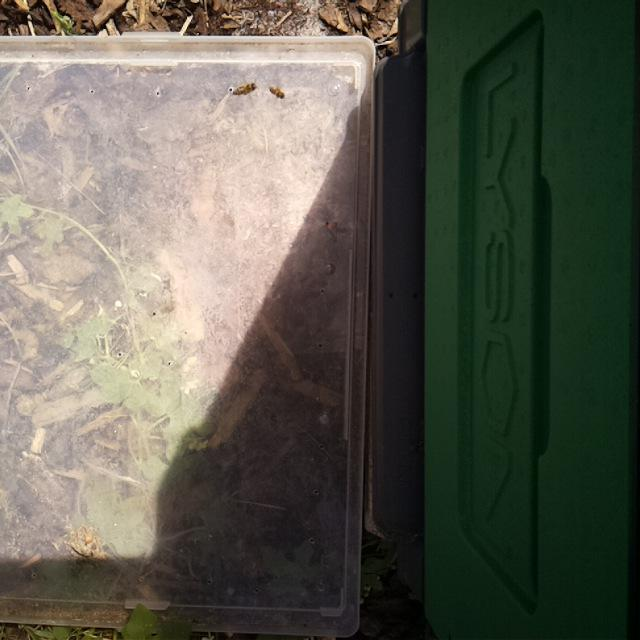worker-bee: (230, 79, 258, 101), (266, 83, 289, 102)
